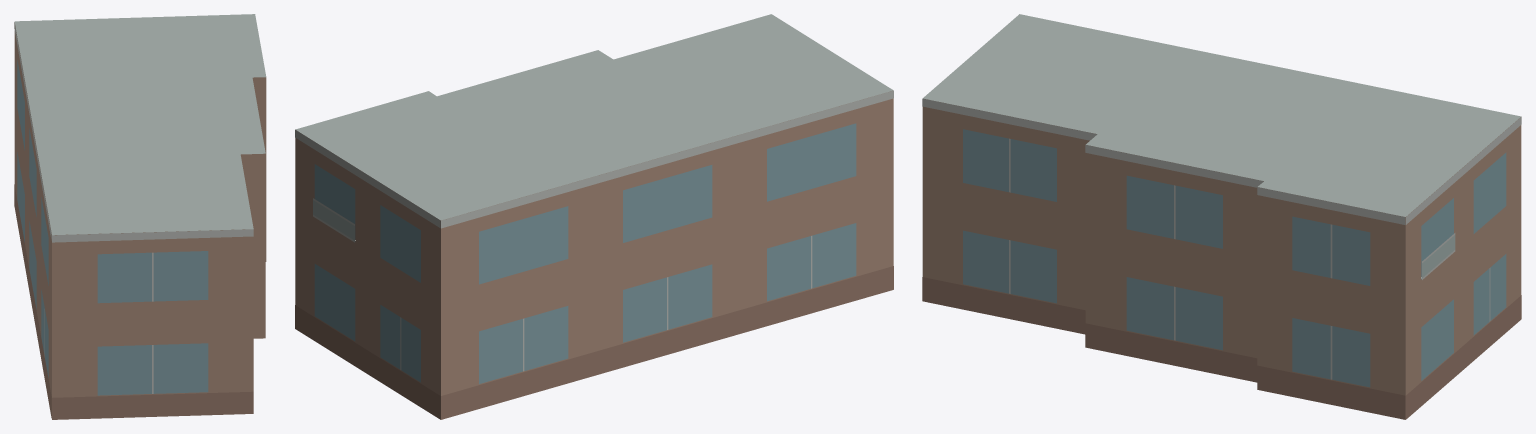
The model's file is survey-upis-32826941.glb.
3 renders of one model, left to right at view 1: azimuth 30°, elevation 25°; view 2: azimuth 150°, elevation 25°; view 3: azimuth 270°, elevation 25°, orthographic. The views are drawn at different scales.
Parts seen in each view (by area): view 1: survey-upis-32826941.tmp; view 2: survey-upis-32826941.tmp; view 3: survey-upis-32826941.tmp.
Part boxes in pixels (x1,y1,x2,y2): survey-upis-32826941.tmp: (14, 14, 266, 419); survey-upis-32826941.tmp: (295, 14, 893, 419); survey-upis-32826941.tmp: (922, 14, 1521, 419).
Size of the model in its own units: 13.11 by 6.1 by 16.34.
